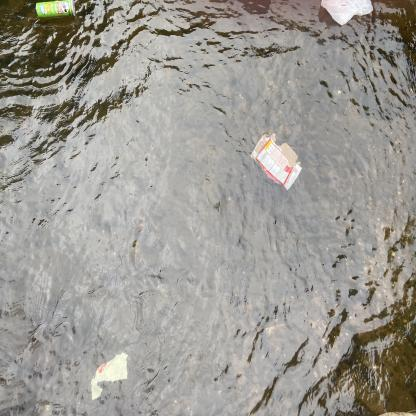trash: (245, 129, 305, 194), (86, 348, 132, 405), (316, 0, 378, 29), (31, 0, 79, 21)
